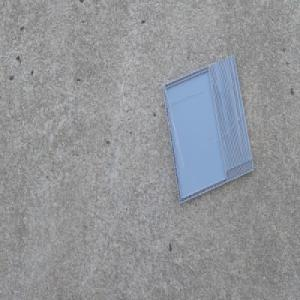PlasticPart: (161, 53, 254, 205)
